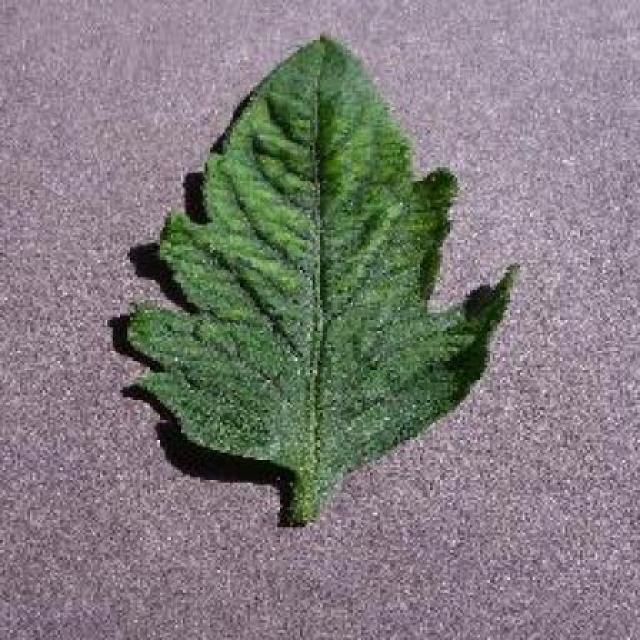Mosaic Virus: (120, 32, 520, 487)
